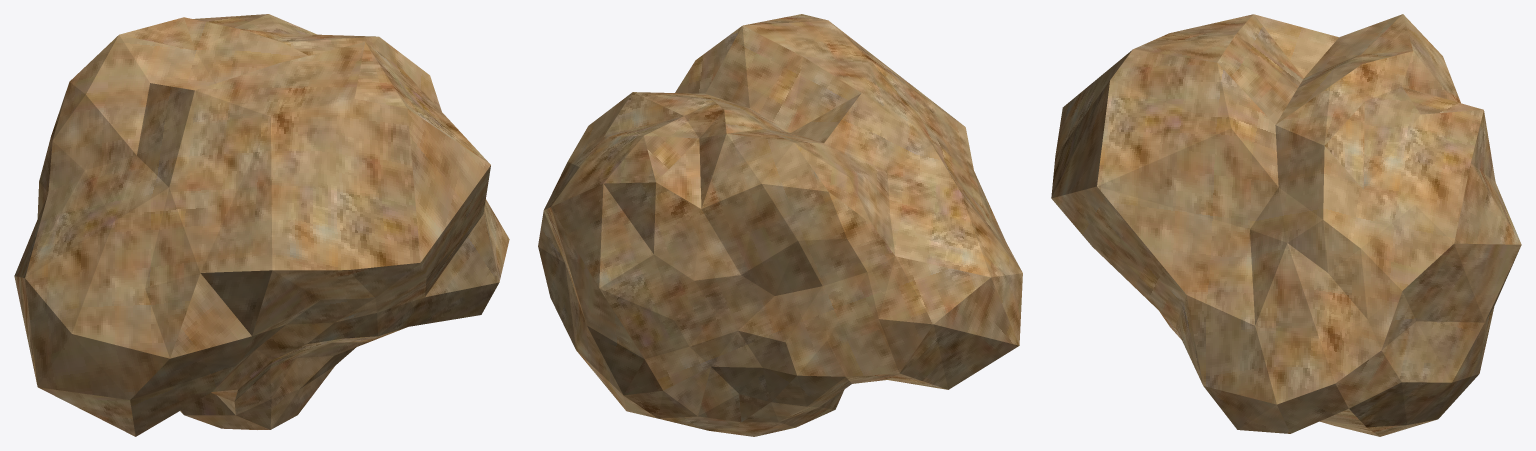
The model's file is asteroids3.glb.
3 renders of one model, left to right at view 1: azimuth 30°, elevation 25°; view 2: azimuth 150°, elevation 25°; view 3: azimuth 270°, elevation 25°, orthographic. The views are drawn at different scales.
Parts seen in each view (by area): view 1: Икосфера.002; view 2: Икосфера.002; view 3: Икосфера.002.
Boxes of the visible parts, x1,y1,x2,y2 form: Икосфера.002: (14, 14, 509, 436); Икосфера.002: (538, 14, 1022, 436); Икосфера.002: (1051, 14, 1521, 436).
Size of the model in its own units: 35.3 by 27.15 by 29.59.
Materials: 1 (1 with a texture image).
